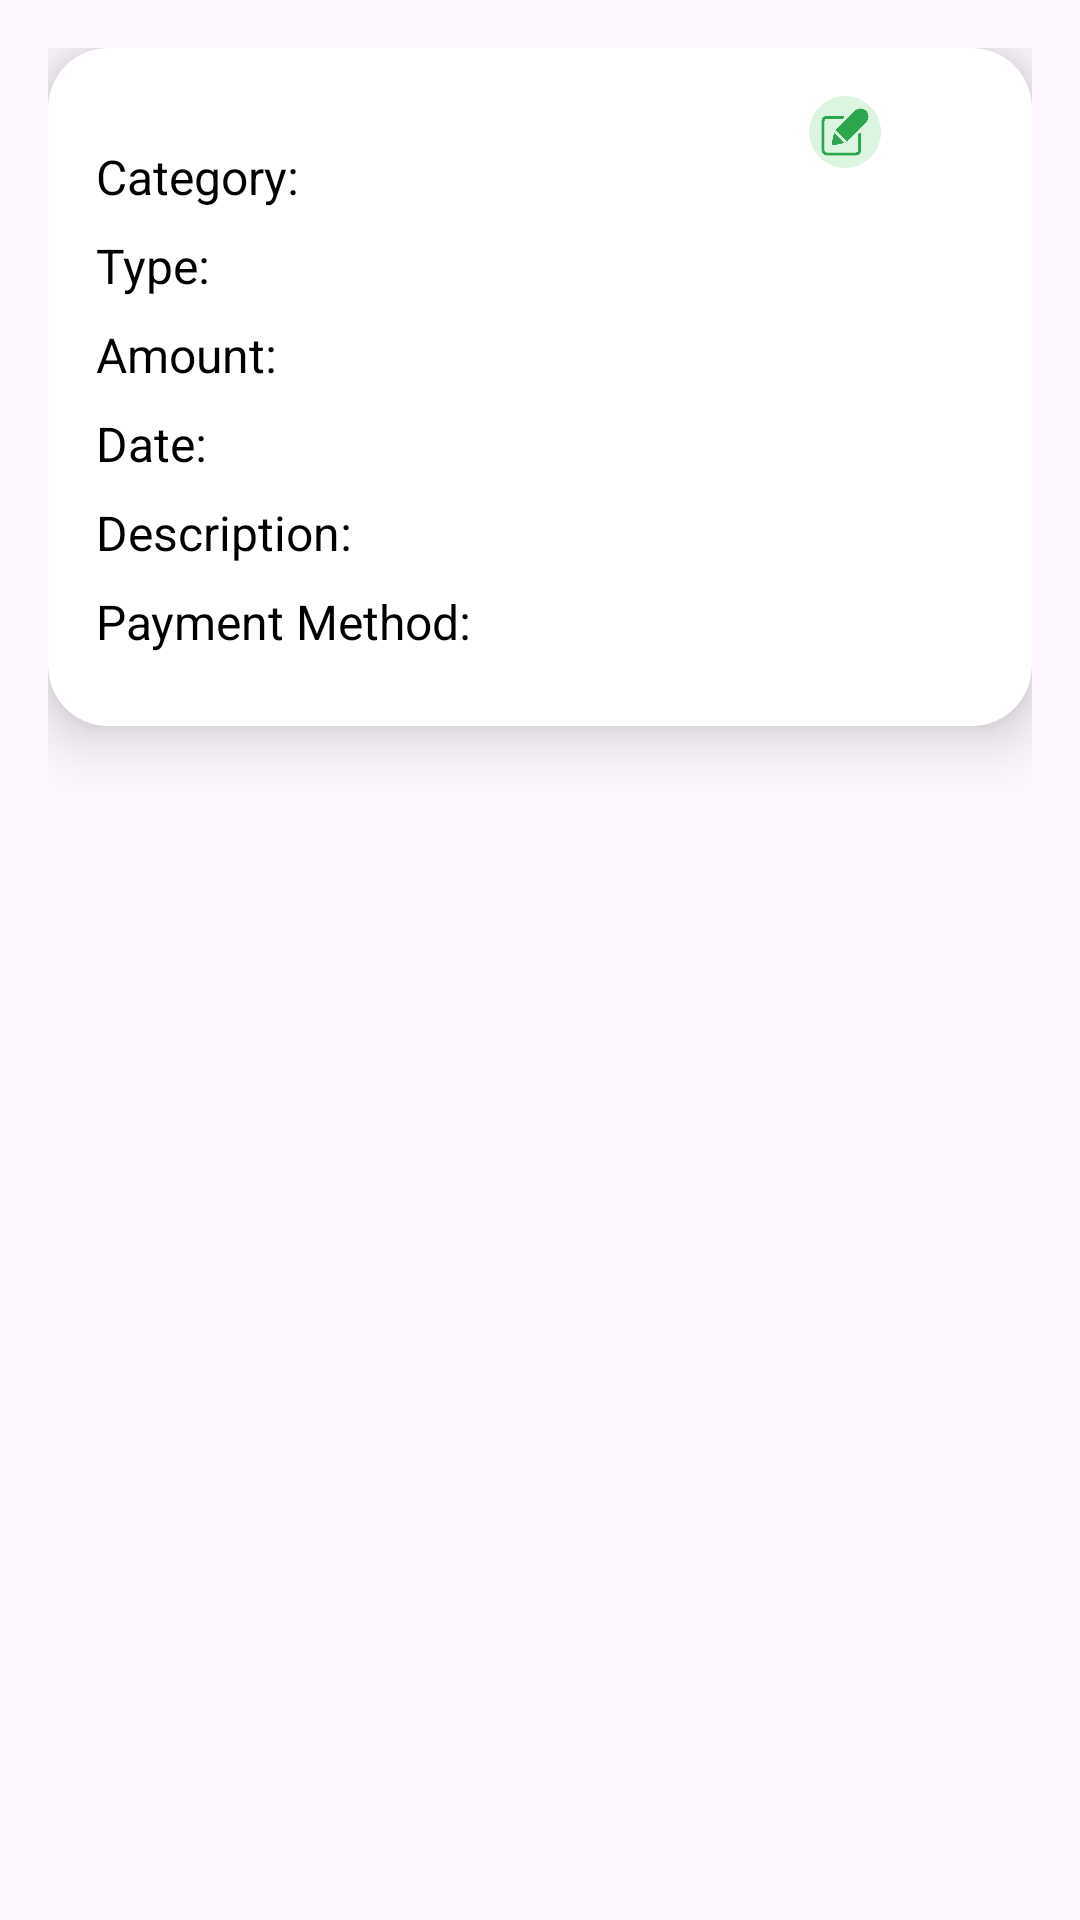

Icon bounding boxes for this 1080 × 1920 phone screenshot, format (x1, y1, x2, y2):
Edit Transaction: (809, 96, 881, 168)
